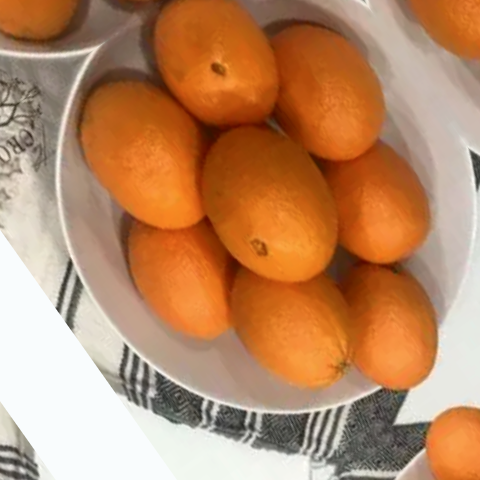orange: (168, 100, 374, 315), (53, 48, 254, 263), (91, 180, 294, 386), (234, 0, 428, 190), (126, 0, 321, 169), (306, 245, 475, 418)
